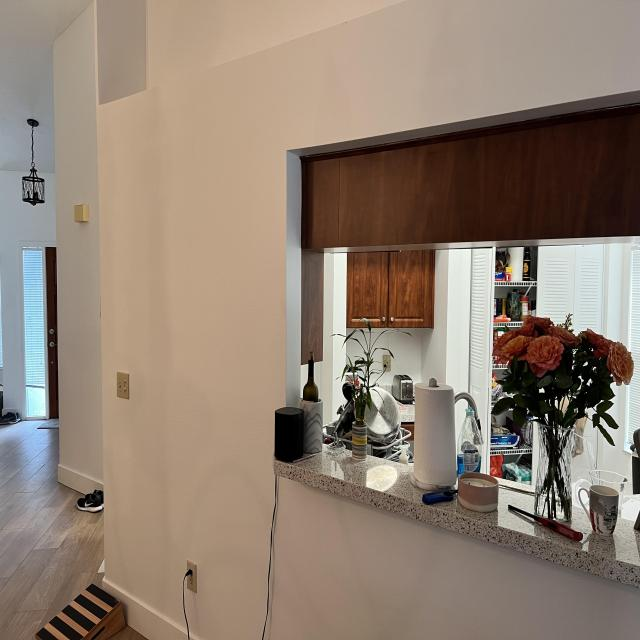Cabinet_Raised_Panel: (344, 250, 436, 333)
Countertop_Granite: (274, 456, 640, 588)
